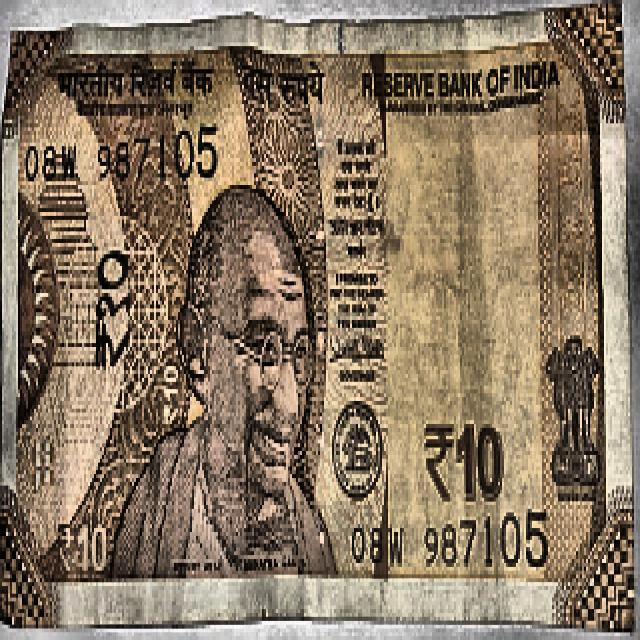-10-: (10, 19, 640, 621)
